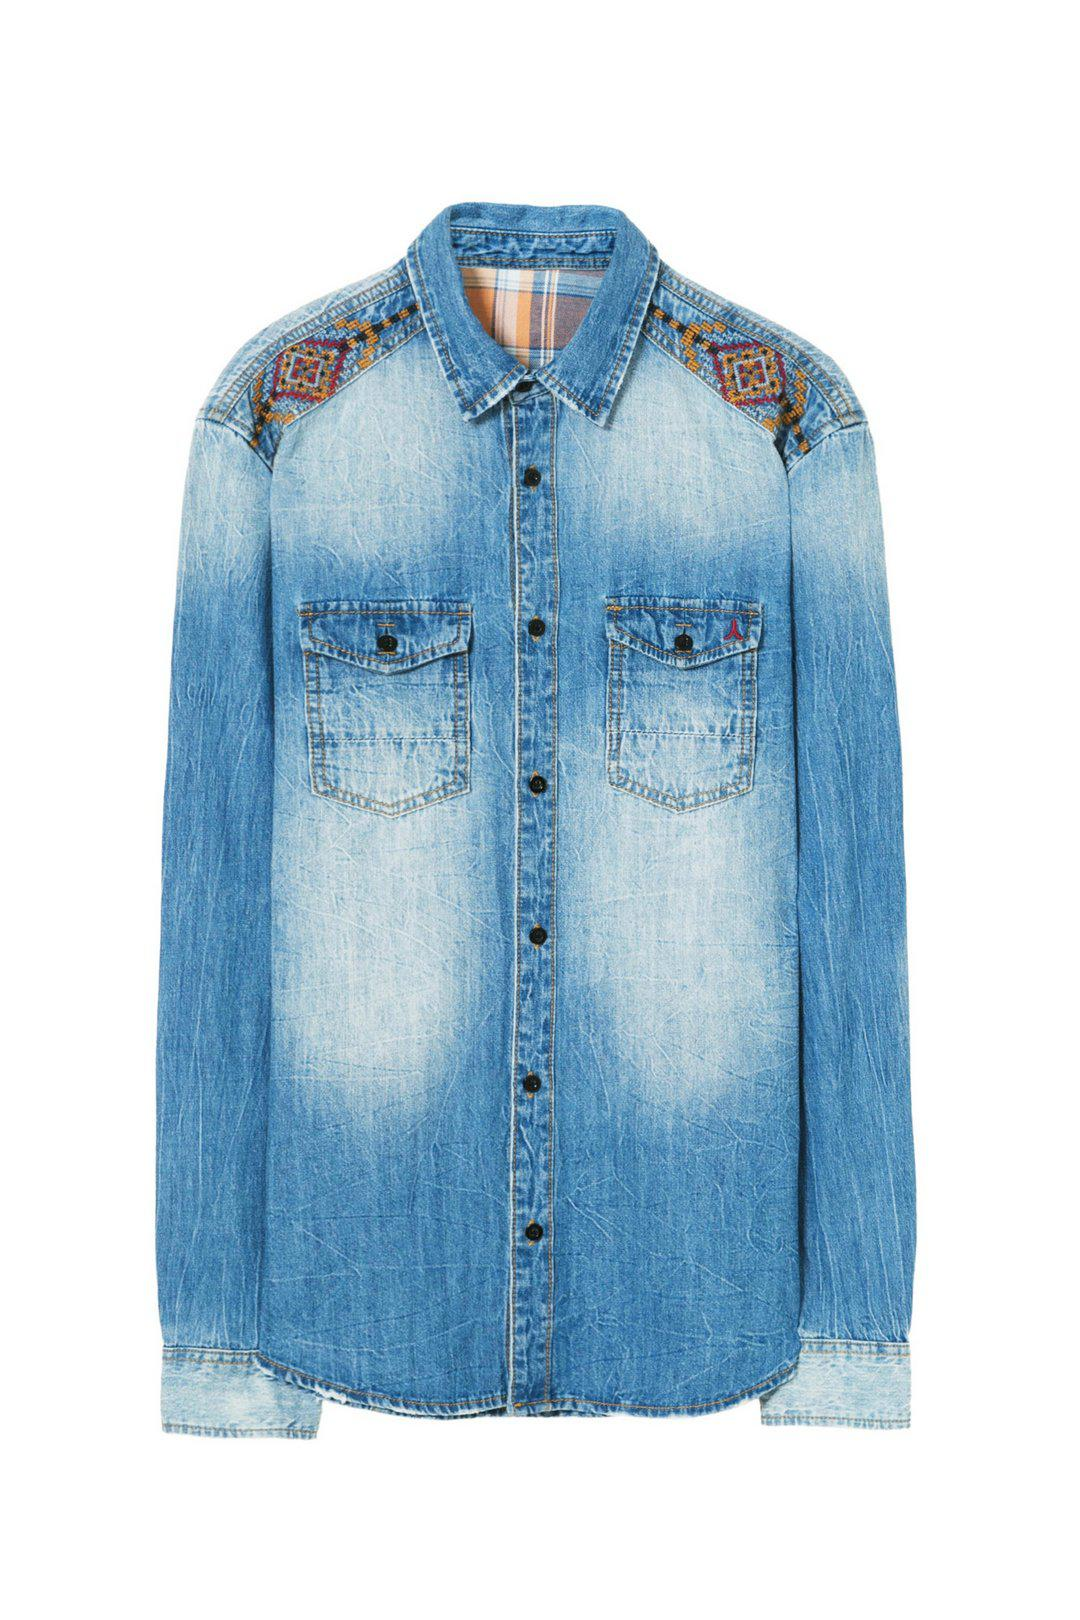teeshirt: (153, 190, 921, 1457)
